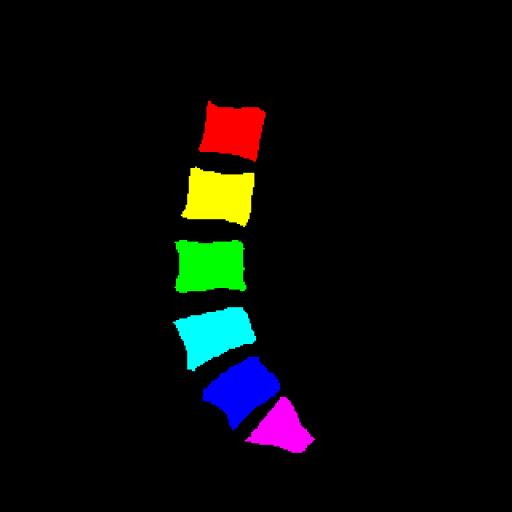L1: (199, 101, 265, 162)
L2: (181, 167, 254, 226)
L3: (175, 240, 246, 293)
L4: (174, 307, 256, 370)
L5: (203, 357, 281, 431)
S1: (246, 397, 315, 452)
